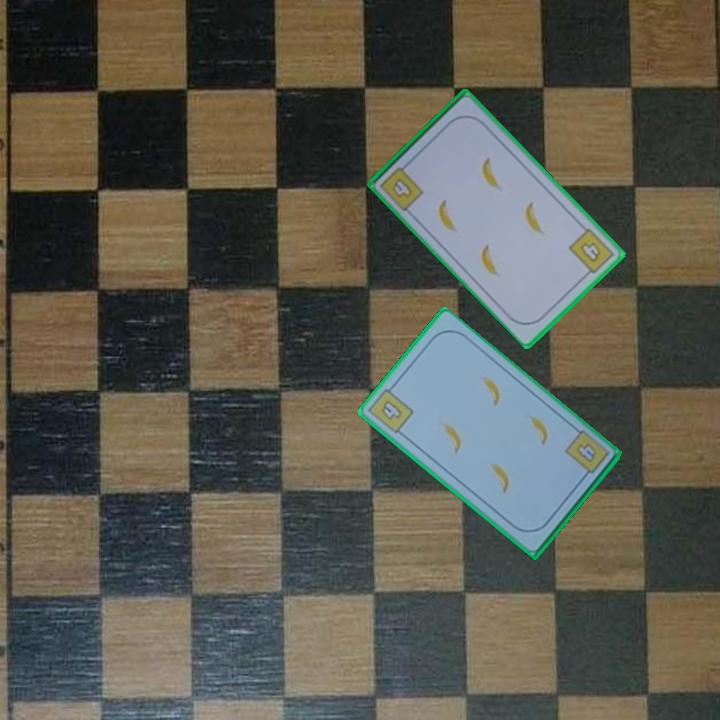4b: (565, 225, 617, 280), (376, 159, 427, 214), (367, 381, 416, 437), (572, 439, 600, 466)
